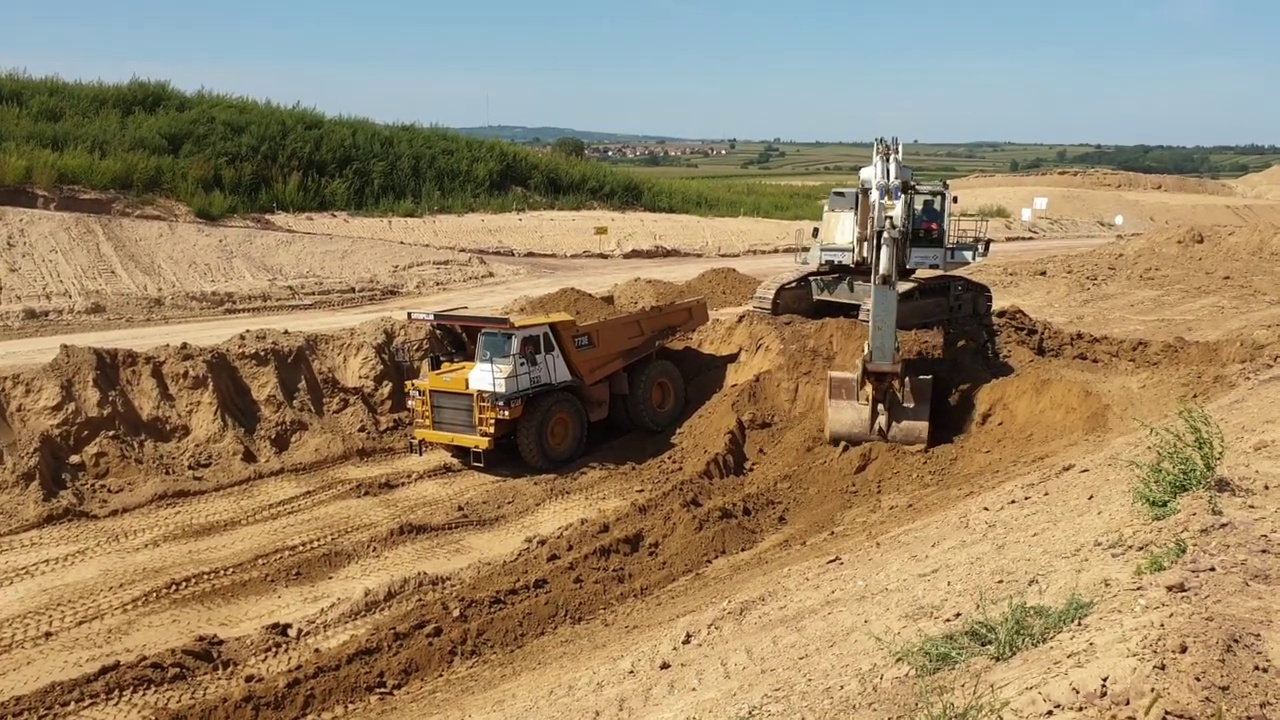excavator: (746, 130, 1002, 452)
truck: (401, 296, 718, 476)
